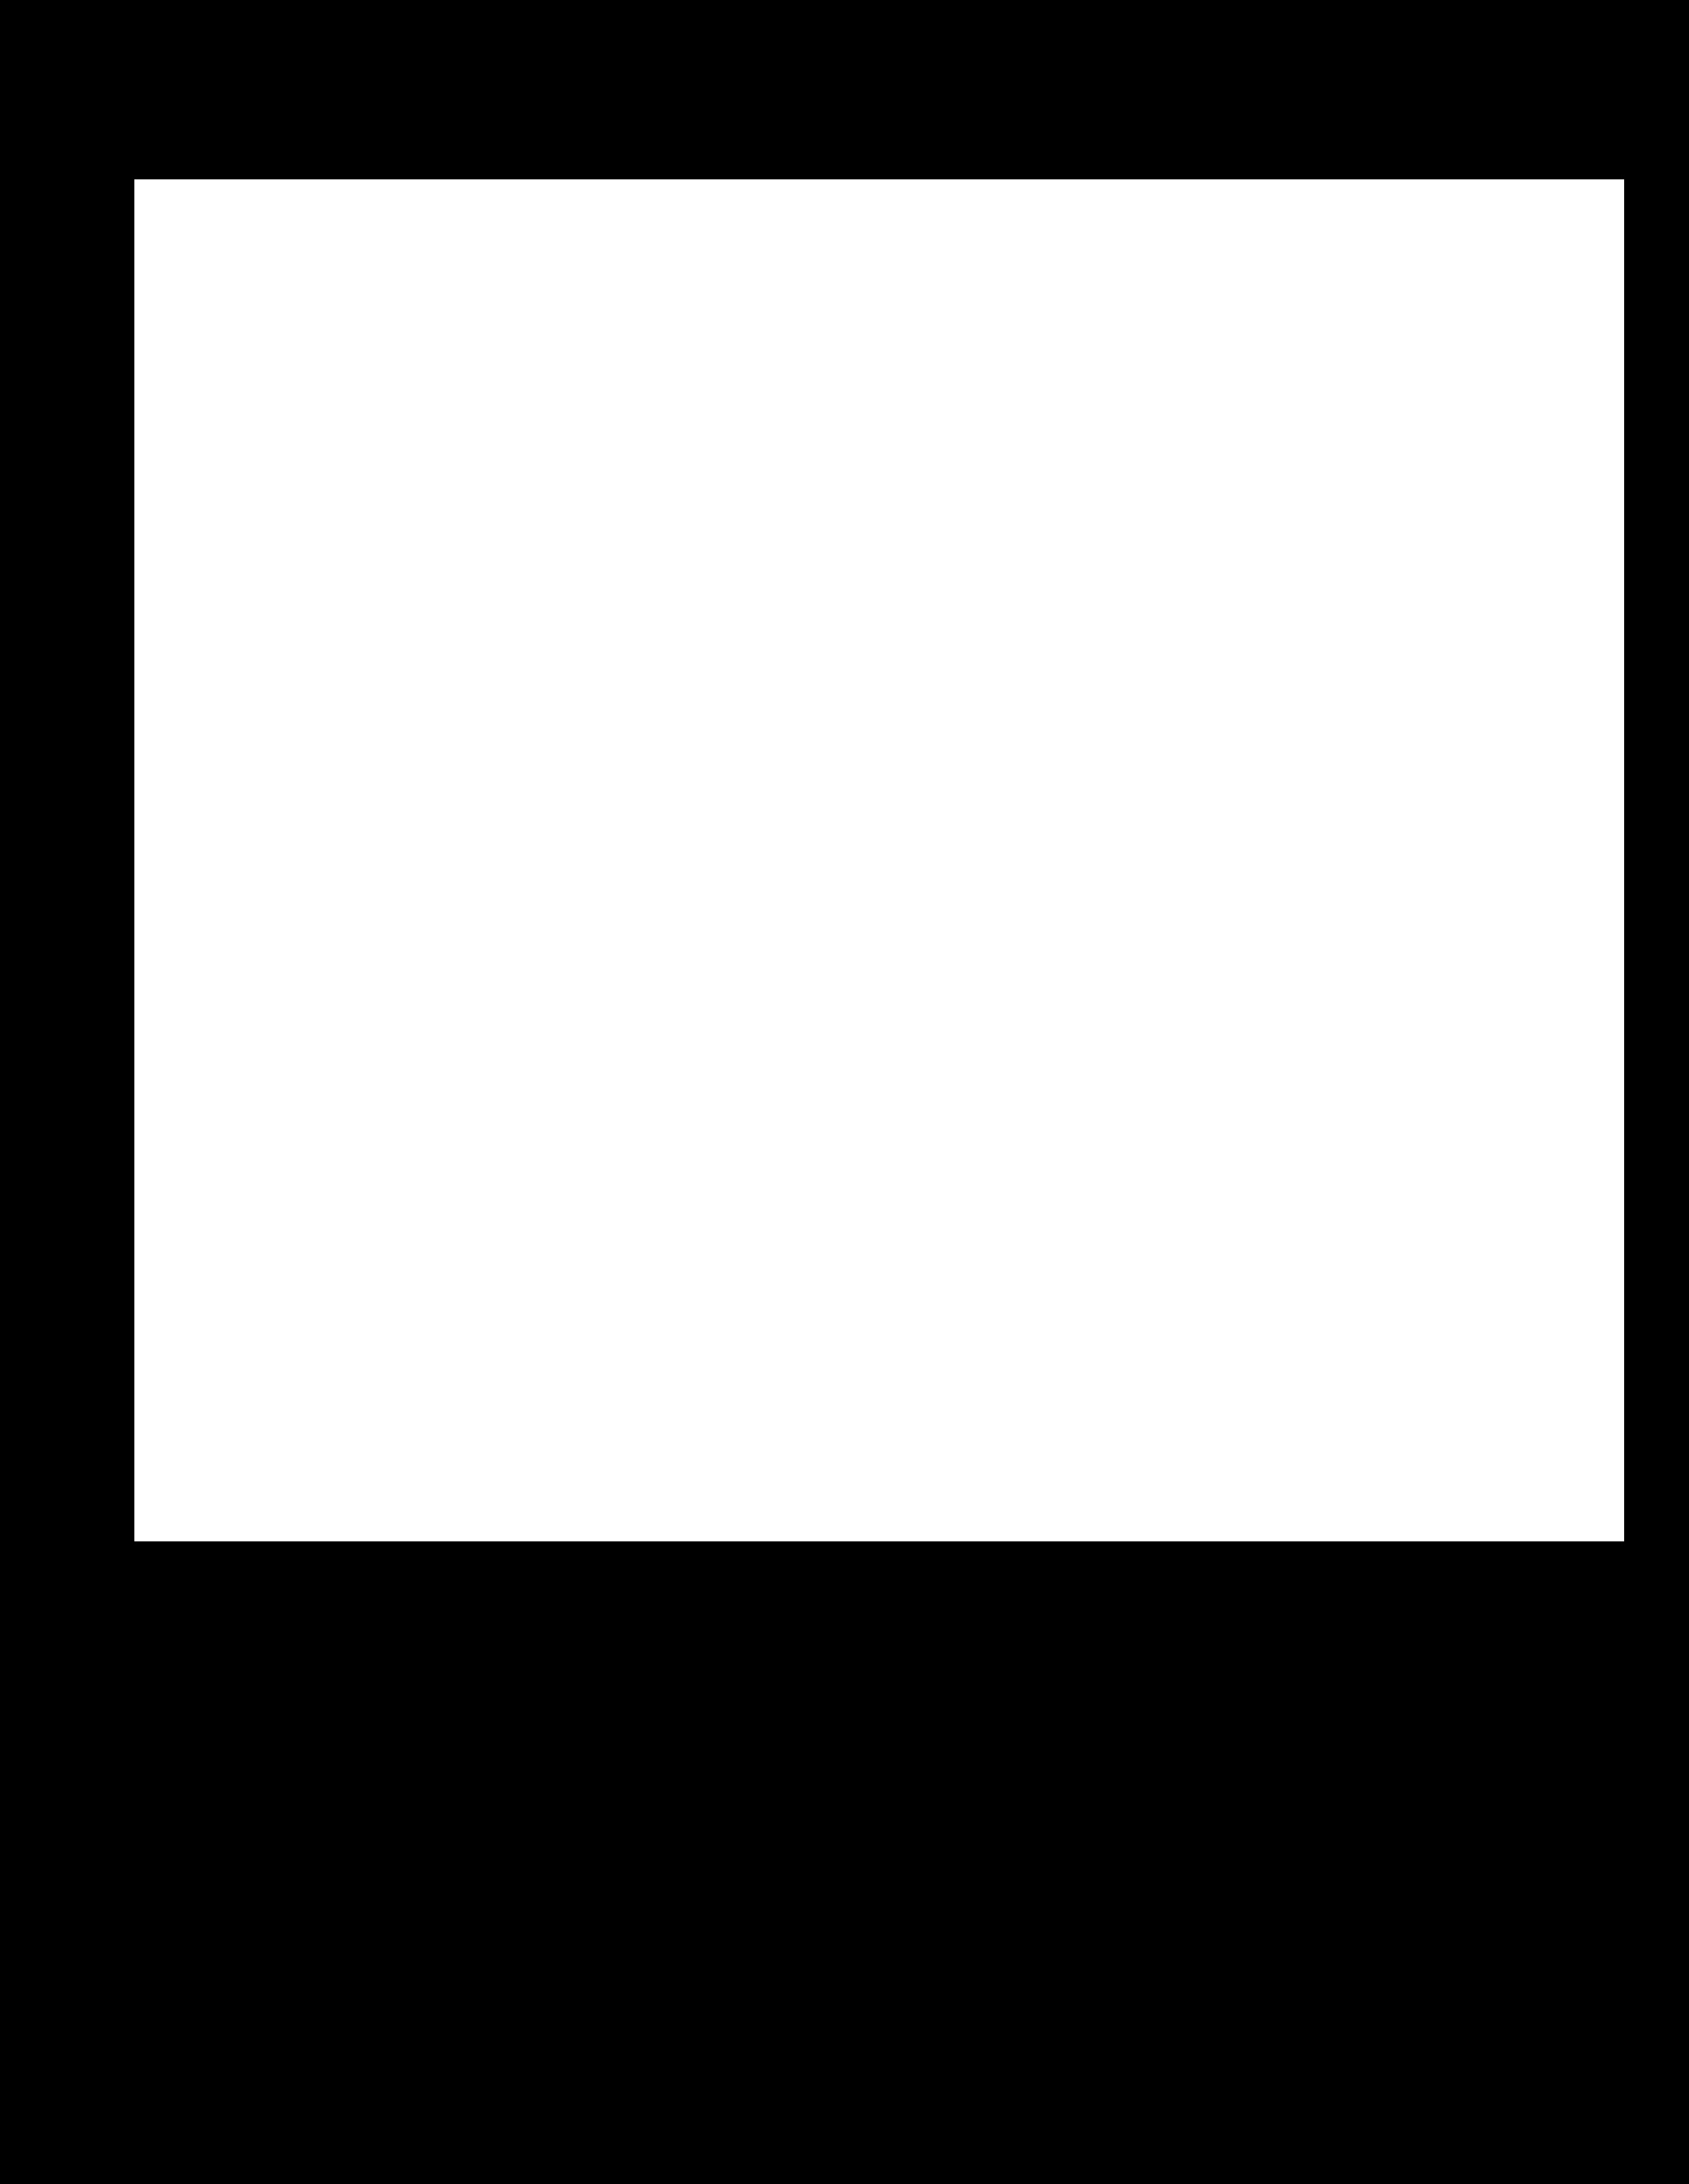table: (135, 179, 1623, 1540)
